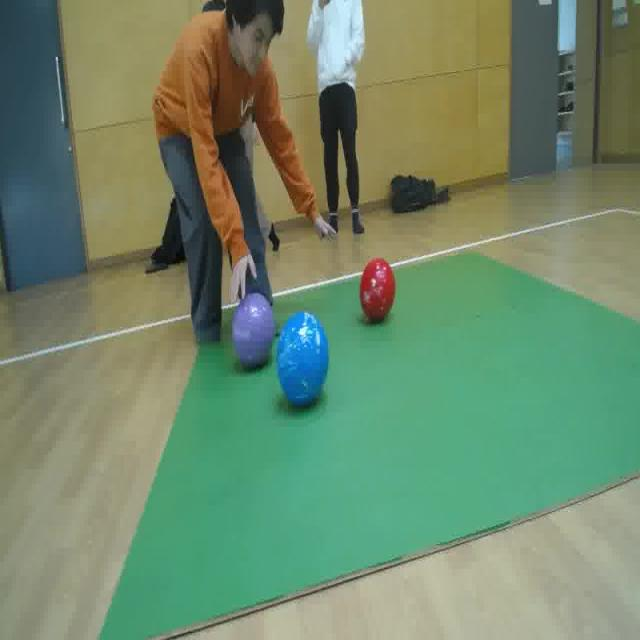blue_ball: (272, 310, 338, 421)
purple_ball: (229, 294, 271, 364)
red_ball: (356, 255, 401, 329)
